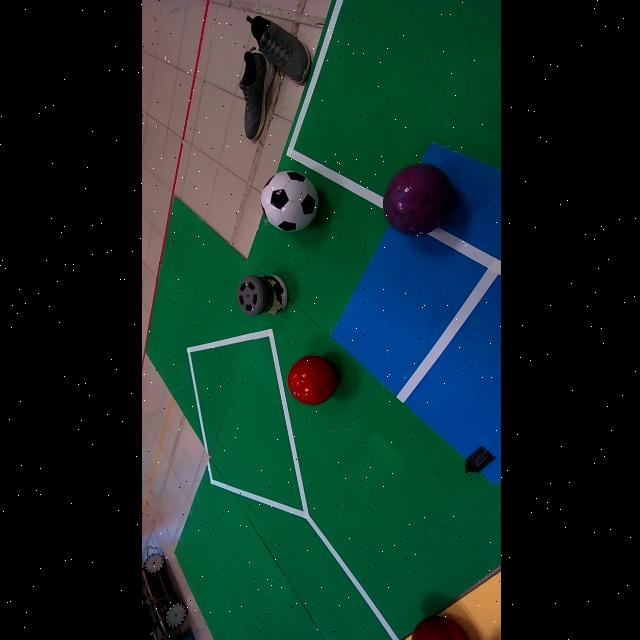P: (381, 163, 452, 236)
R: (285, 355, 336, 407), (410, 616, 466, 640)
